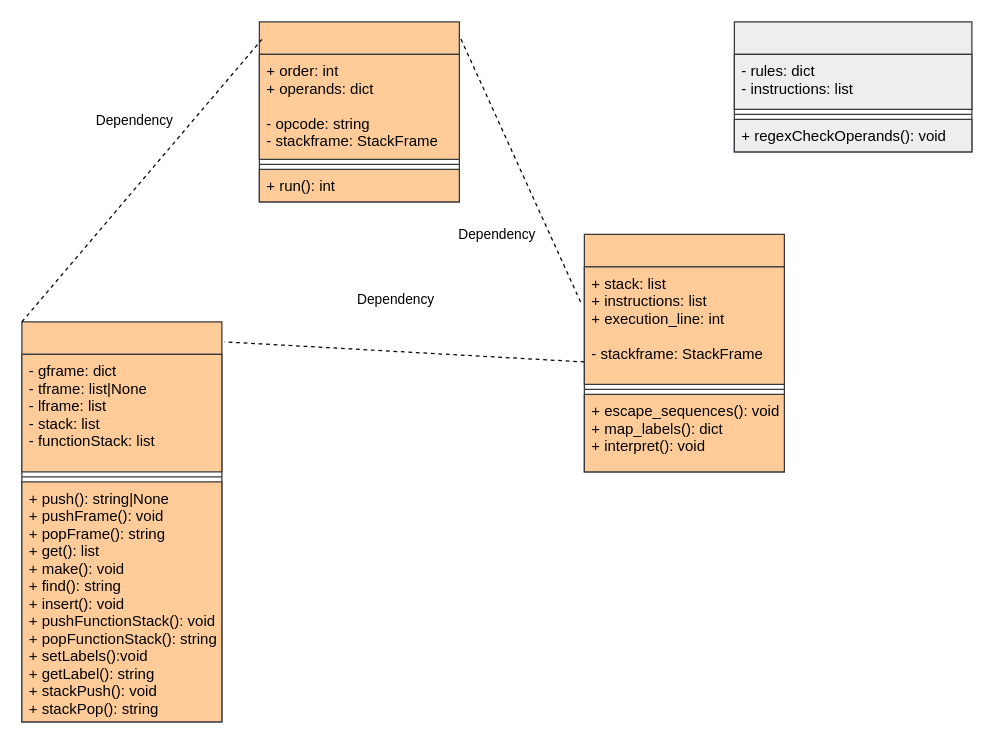
The diagram is 994 pixels wide and 748 high, and some of its shapes have lost their labels. The shapes that lost their labels are listed below. From the top down, each one's box as (x1, y1, x2, y2) in pixels, then its label:
(733, 21, 972, 152): Lexer
(258, 21, 459, 202): Instruction
(583, 233, 784, 472): Analyzer
(21, 321, 222, 722): StackFrame
